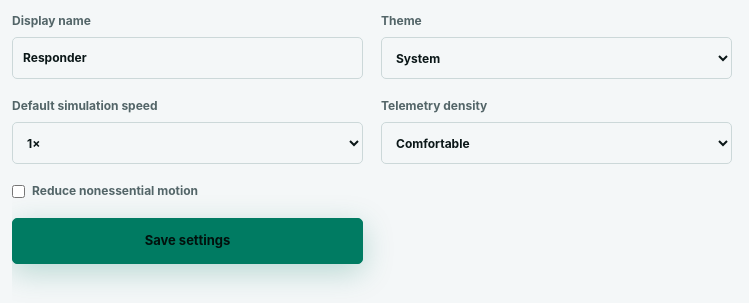
dashboard account controls › saves bounded account preferences through the authenticated endpoint
Replace the text in the field labelled "Display name" with "Ada Responder" at (188, 58), box [12,37,363,79]
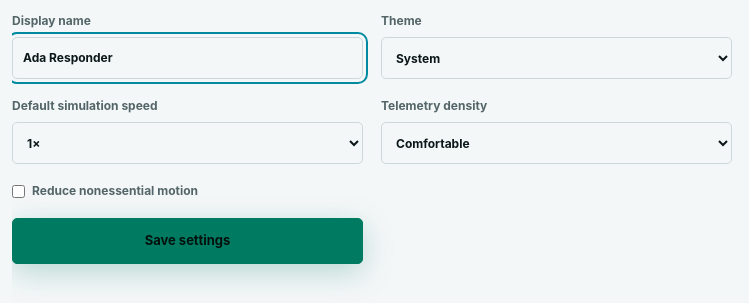
Click the button "Save settings".
click(188, 241)  # box [12,218,363,264]
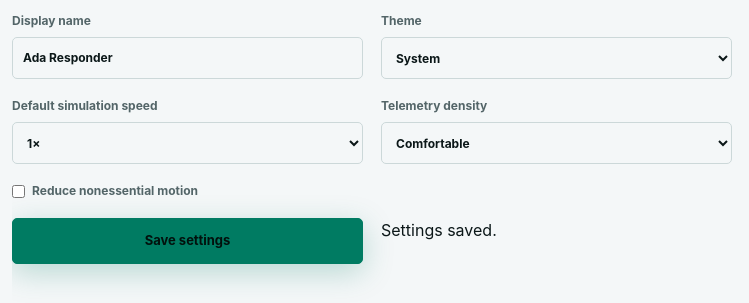
Expected: the text "Settings saved." is shown, [381,220,497,240]
